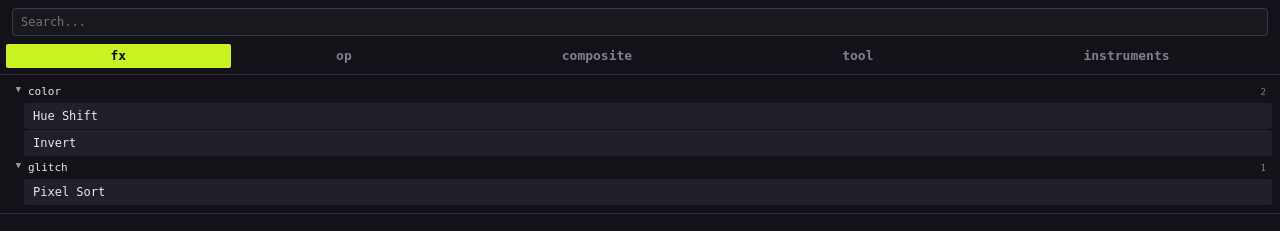
Test: P3.2 — Global search › search results shown while query non-empty
The image size is (1280, 231).
Step 1. Type "pixel" into the field with test id "browser-search-input" → (640, 22), box [12,8,1268,36]
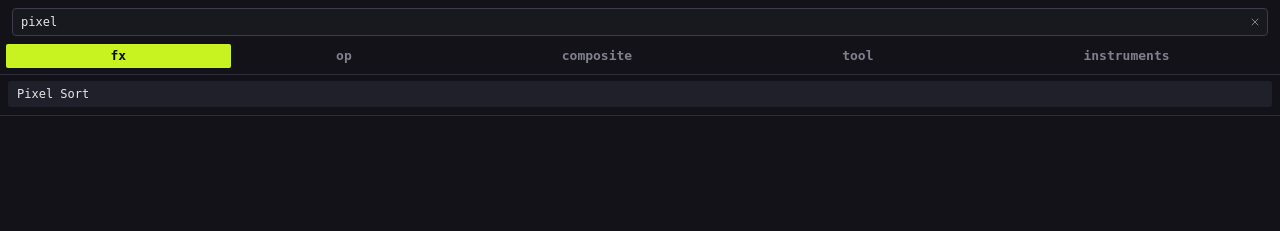
expect the button with class "effect-browser__item" reads "Pixel Sort": met, box [8,81,1272,107]
expect the number of buttons with class "effect-browser__item" is 1: met, box [8,81,1272,107]
